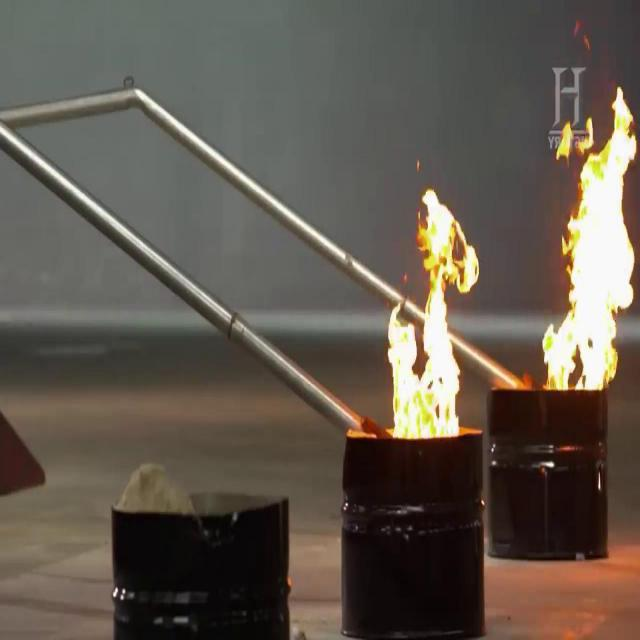Fire: (516, 84, 632, 422), (368, 176, 476, 437)
